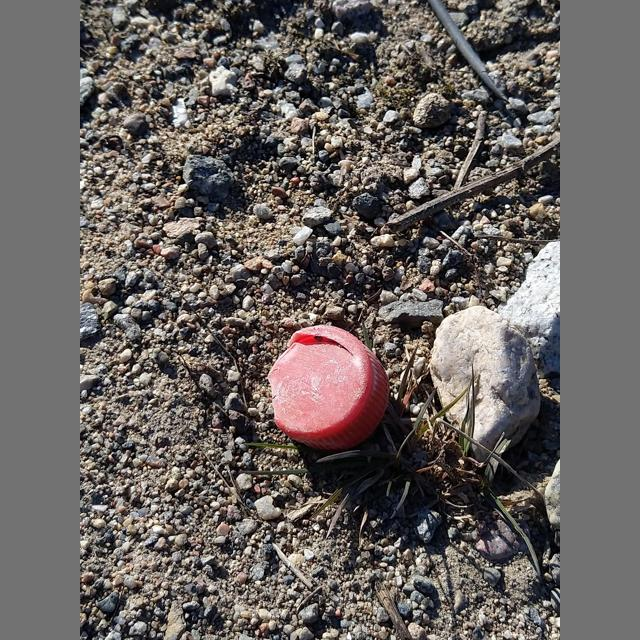litter: (267, 325, 389, 450)
